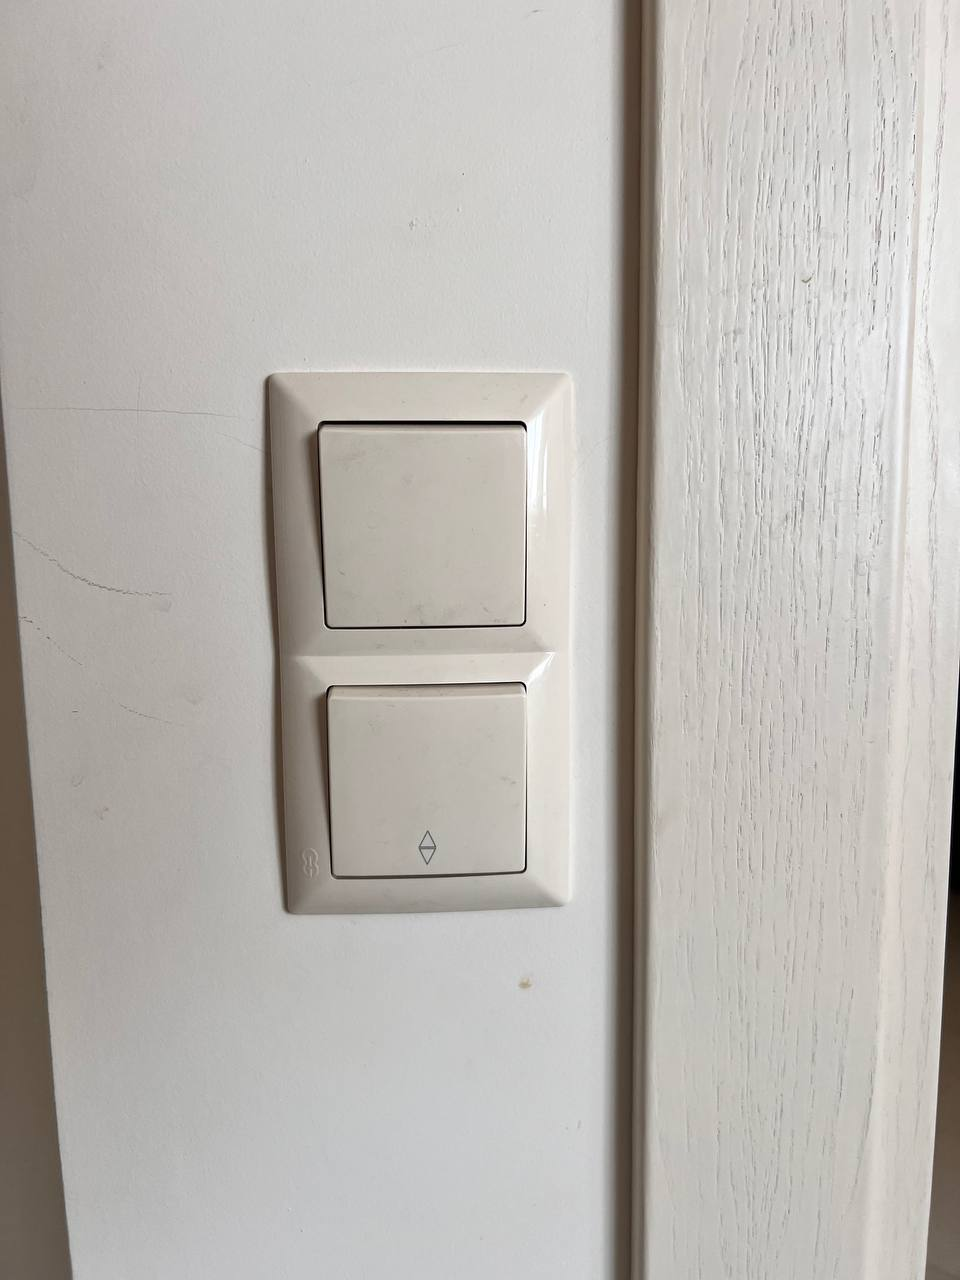Light Switcher: (261, 371, 567, 653), (271, 652, 578, 911)
